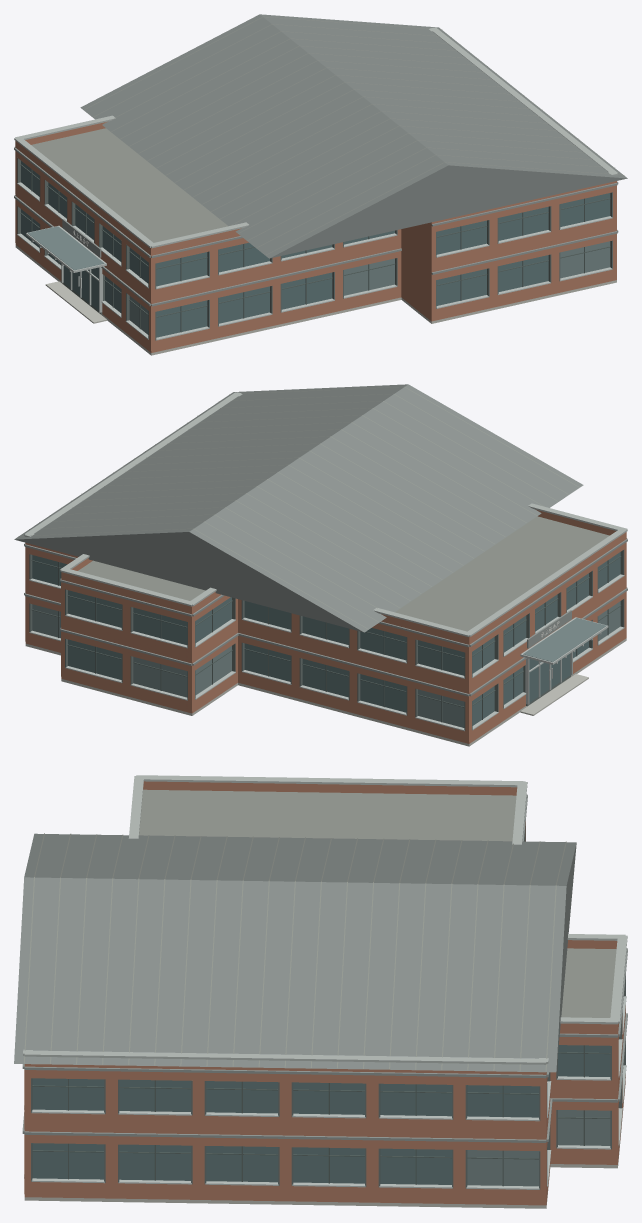
Rendered from mapped_267646980.glb.
3 views of the same model, one above another, from view 1: azimuth 30°, elevation 25°; view 2: azimuth 150°, elevation 25°; view 3: azimuth 270°, elevation 25° (orthographic). The views are drawn at different scales.
Parts seen in each view (by area): view 1: mapped_267646980_RoofTile, mapped_267646980_CampusBrick, mapped_267646980_FacultyRoof, mapped_267646980_WindowGlass, mapped_267646980_WindowGlassLight, mapped_267646980_WindowAluminium, mapped_267646980_FacultyDarkPanel, mapped_267646980_Teaching5TileJoint, mapped_267646980_WindowReveal, mapped_267646980_EntryStone, mapped_267646980_WindowRubber; view 2: mapped_267646980_RoofTile, mapped_267646980_CampusBrick, mapped_267646980_FacultyRoof, mapped_267646980_WindowGlass, mapped_267646980_WindowGlassLight, mapped_267646980_Teaching5TileJoint, mapped_267646980_WindowAluminium, mapped_267646980_FacultyDarkPanel, mapped_267646980_WindowReveal, mapped_267646980_EntryStone, mapped_267646980_WindowRubber; view 3: mapped_267646980_RoofTile, mapped_267646980_CampusBrick, mapped_267646980_FacultyRoof, mapped_267646980_WindowGlass, mapped_267646980_Teaching5TileJoint, mapped_267646980_FacultyDarkPanel, mapped_267646980_WindowAluminium, mapped_267646980_WindowGlassLight, mapped_267646980_WindowRubber, mapped_267646980_WindowReveal, mapped_267646980_EntryStone.
Part boxes in pixels (x1,y1,x2,y2): mapped_267646980_RoofTile: [80, 14, 627, 258]; mapped_267646980_CampusBrick: [15, 121, 616, 352]; mapped_267646980_FacultyRoof: [31, 16, 623, 254]; mapped_267646980_WindowGlass: [21, 161, 610, 337]; mapped_267646980_WindowGlassLight: [28, 226, 610, 334]; mapped_267646980_WindowAluminium: [17, 182, 612, 340]; mapped_267646980_FacultyDarkPanel: [14, 147, 618, 306]; mapped_267646980_Teaching5TileJoint: [14, 27, 617, 248]; mapped_267646980_WindowReveal: [17, 158, 612, 340]; mapped_267646980_EntryStone: [15, 245, 616, 355]; mapped_267646980_WindowRubber: [20, 164, 610, 332]; mapped_267646980_RoofTile: [14, 384, 583, 632]; mapped_267646980_CampusBrick: [25, 509, 626, 743]; mapped_267646980_FacultyRoof: [20, 386, 609, 631]; mapped_267646980_WindowGlass: [32, 552, 620, 725]; mapped_267646980_WindowGlassLight: [32, 601, 620, 727]; mapped_267646980_Teaching5TileJoint: [24, 392, 627, 636]; mapped_267646980_WindowAluminium: [29, 574, 624, 731]; mapped_267646980_FacultyDarkPanel: [24, 538, 627, 696]; mapped_267646980_WindowReveal: [29, 549, 624, 730]; mapped_267646980_EntryStone: [25, 638, 626, 746]; mapped_267646980_WindowRubber: [31, 556, 621, 722]; mapped_267646980_RoofTile: [14, 833, 576, 1072]; mapped_267646980_CampusBrick: [24, 781, 625, 1205]; mapped_267646980_FacultyRoof: [24, 789, 616, 1071]; mapped_267646980_WindowGlass: [32, 1045, 610, 1184]; mapped_267646980_Teaching5TileJoint: [23, 775, 627, 1064]; mapped_267646980_FacultyDarkPanel: [22, 794, 627, 1142]; mapped_267646980_WindowAluminium: [24, 996, 626, 1189]; mapped_267646980_WindowGlassLight: [467, 1110, 610, 1186]; mapped_267646980_WindowRubber: [32, 1045, 610, 1186]; mapped_267646980_WindowReveal: [31, 825, 625, 1189]; mapped_267646980_EntryStone: [24, 1082, 625, 1208].
Size of the model in its own units: 35.43 by 11.36 by 29.6.
